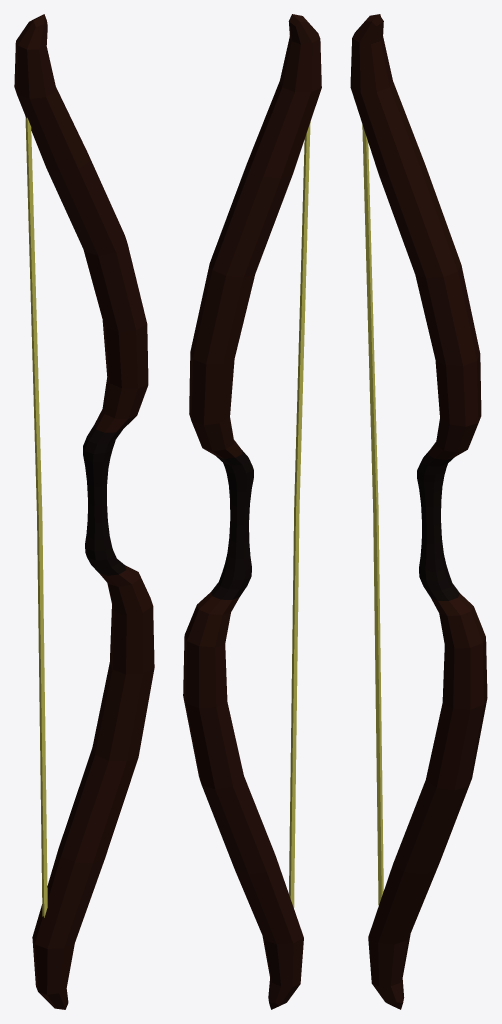
Rendered from bow.obj.
3 renders of one model, left to right at view 1: azimuth 30°, elevation 25°; view 2: azimuth 210°, elevation 25°; view 3: azimuth 330°, elevation 25°, orthographic.
Visible parts, largest first — view 1: bow_Cube.002; view 2: bow_Cube.002; view 3: bow_Cube.002.
Part boxes in pixels (box(x1,y1,x2,y2)): bow_Cube.002: box(14, 14, 154, 1009); bow_Cube.002: box(183, 14, 321, 1009); bow_Cube.002: box(350, 14, 487, 1009).
Size of the model in its own units: 0.1014 by 0.7273 by 0.032.
